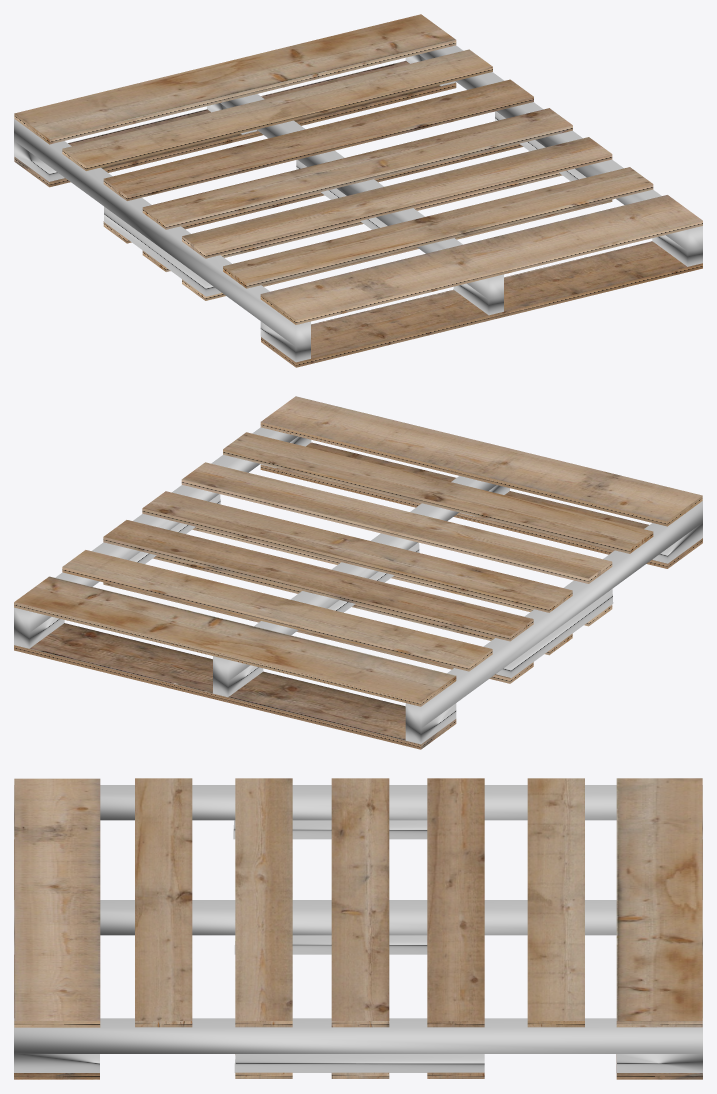
File: pallet.fbx
The picture shows the model from 3 angles, top to bottom: view 1: azimuth 30°, elevation 25°; view 2: azimuth 150°, elevation 25°; view 3: azimuth 270°, elevation 25°; orthographic projection. The views are drawn at different scales.
Parts seen in each view (by area): view 1: Cube_028, Cube_030, Cube_022, Cube_027, Cube_025, Cube_029, Cube_026, Cube_024, Plane_006, Plane_007, Plane_005, Cube_023 (+3 smaller); view 2: Cube_028, Cube_030, Cube_023, Cube_026, Cube_025, Cube_024, Cube_027, Cube_029, Plane_006, Plane_007, Plane_005, Cube_022 (+3 smaller); view 3: Plane_007, Cube_030, Cube_028, Cube_029, Cube_026, Cube_024, Cube_027, Cube_025, Plane_006, Plane_005, Cube_023, Cube_022.
Part boxes in pixels (box(x1,y1,x2,y2)): Cube_028: box(14, 14, 456, 144); Cube_030: box(260, 195, 702, 324); Cube_022: box(261, 241, 702, 367); Cube_027: box(223, 167, 653, 288); Cube_025: box(62, 49, 492, 170); Cube_029: box(142, 108, 572, 229); Cube_026: box(182, 137, 612, 258); Cube_024: box(103, 79, 533, 200); Plane_006: box(14, 119, 310, 362); Plane_007: box(405, 45, 702, 266); Plane_005: box(207, 94, 503, 315); Cube_023: box(14, 60, 456, 187); Cube_028: box(14, 576, 456, 706); Cube_030: box(260, 396, 702, 526); Cube_023: box(14, 623, 456, 749); Cube_026: box(181, 462, 612, 583); Cube_025: box(62, 550, 492, 671); Cube_024: box(103, 520, 533, 641); Cube_027: box(223, 432, 653, 553); Cube_029: box(142, 491, 572, 612); Plane_006: box(405, 501, 702, 744); Plane_007: box(14, 427, 311, 648); Plane_005: box(213, 476, 509, 697); Cube_022: box(260, 442, 702, 568); Plane_007: box(14, 1018, 702, 1072); Cube_030: box(14, 778, 100, 1027); Cube_028: box(616, 778, 702, 1027); Cube_029: box(331, 778, 389, 1027); Cube_026: box(235, 778, 292, 1027); Cube_024: box(427, 778, 484, 1027); Cube_027: box(135, 778, 192, 1027); Cube_025: box(527, 778, 584, 1027); Plane_006: box(14, 785, 702, 839); Plane_005: box(14, 900, 702, 954); Cube_023: box(616, 839, 702, 1079); Cube_022: box(14, 839, 99, 1079).
Bounding box in the file's own units: 1.02 × 0.115 × 1.22.
